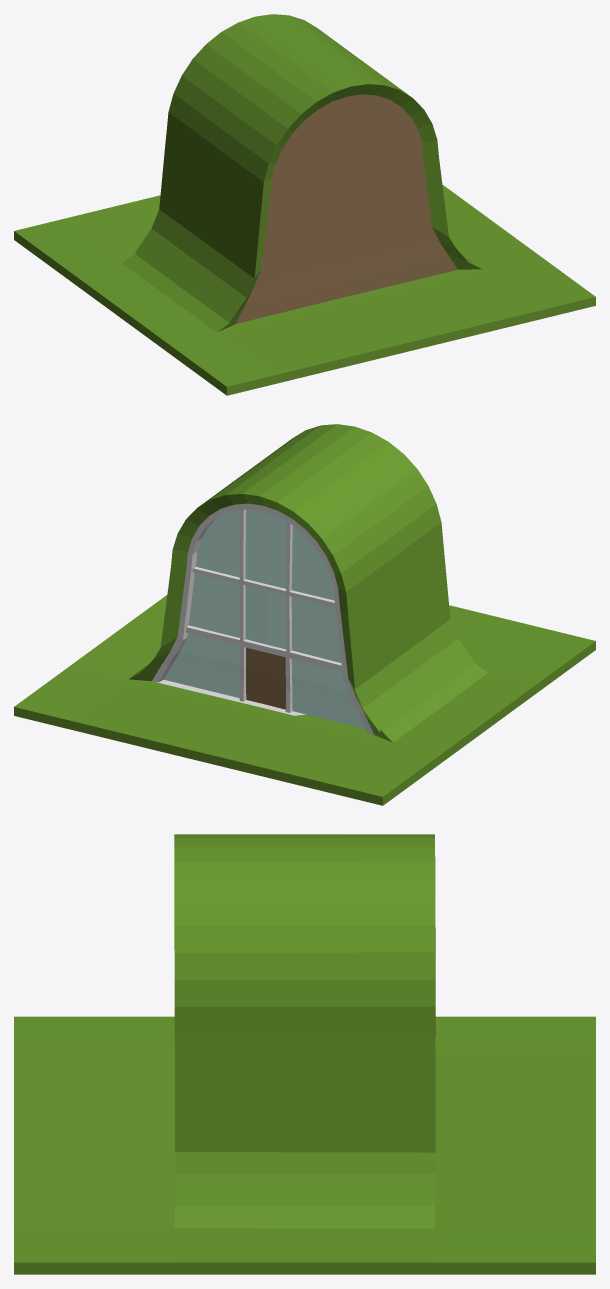
File: grassroof.fbx
3 renders of one model, top to bottom at view 1: azimuth 30°, elevation 25°; view 2: azimuth 150°, elevation 25°; view 3: azimuth 270°, elevation 25°, orthographic. The views are drawn at different scales.
Parts seen in each view (by area): view 1: Teletubbie; view 2: Teletubbie; view 3: Teletubbie.
Part boxes in pixels (x1=…): Teletubbie: x1=14, y1=14, x2=595, y2=395; Teletubbie: x1=14, y1=424, x2=595, y2=805; Teletubbie: x1=14, y1=834, x2=595, y2=1274.
Size of the model in its own units: 482 by 482 by 277.
